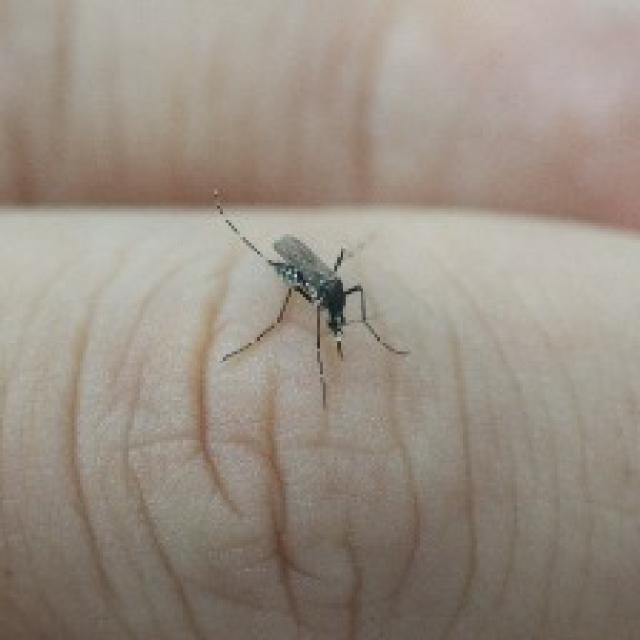aedes: (206, 185, 411, 408)
